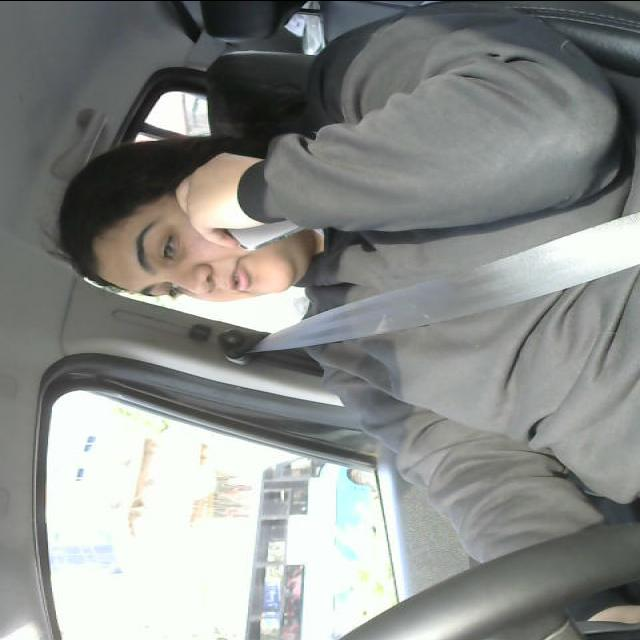mobile use: (206, 174, 314, 250)
